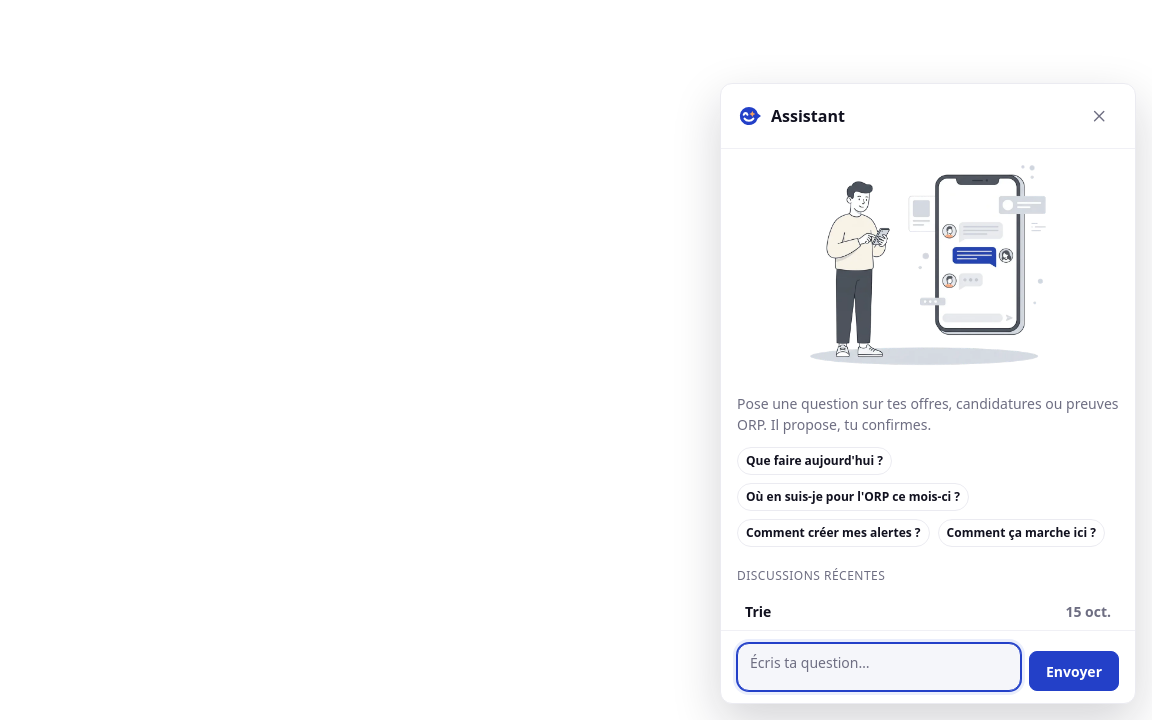
AssistantPanel, propositions (docs/52) › une discussion rouverte remet chaque proposition sous sa réponse, avec son état
Click the button with test id "assistant-recent" showing "Trie 15 oct.": (1088, 612) [737,593,1119,630]
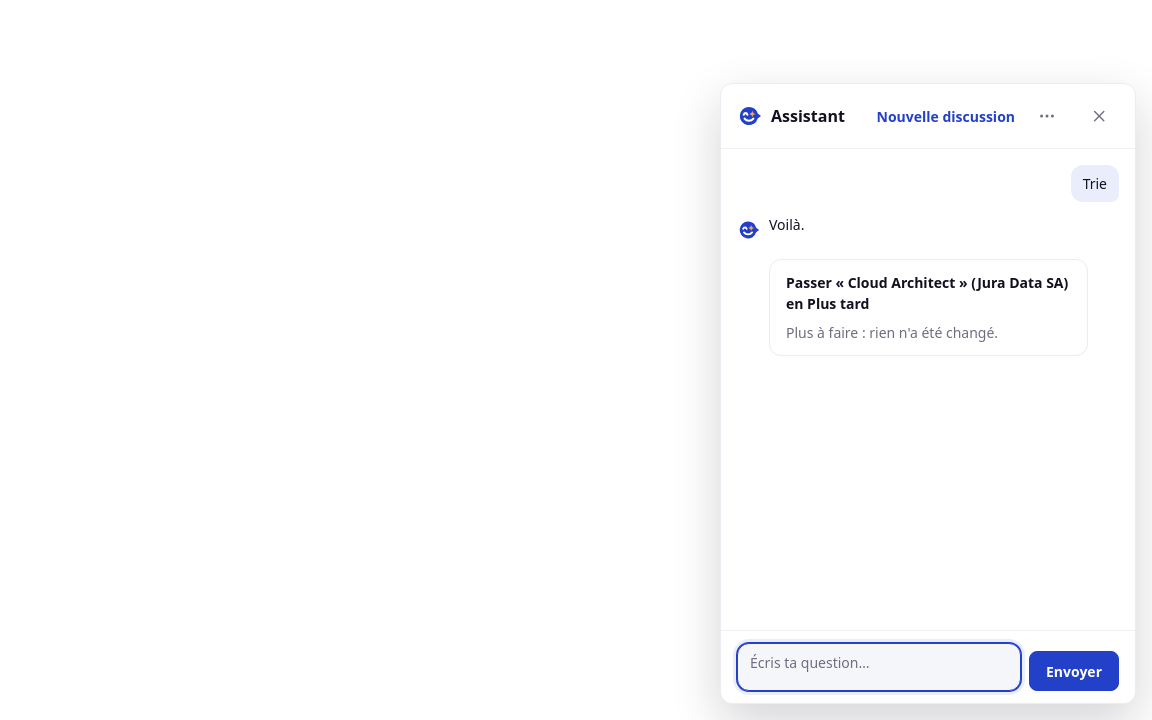
Check: the element with test id "assistant-action" shows "rien n'a été changé", box [786,323,998,342]
